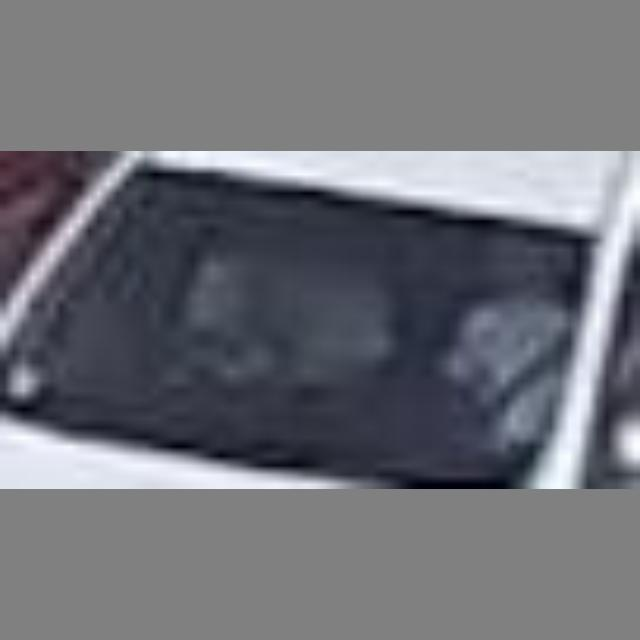pakai: (442, 273, 565, 443)
tidak-pakai: (169, 226, 367, 377)
